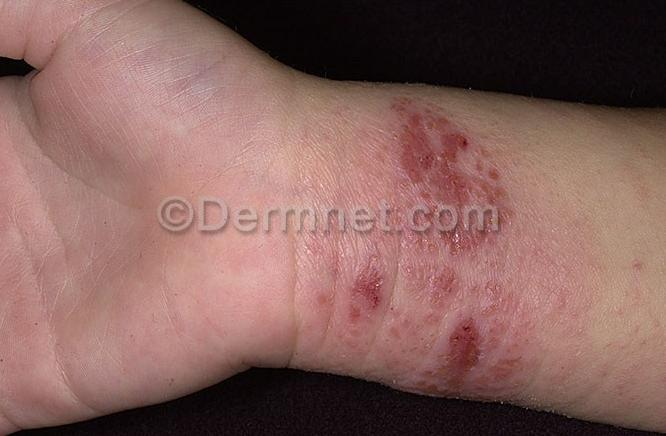eritema 3: (318, 96, 510, 408)
exudacion 3: (343, 114, 513, 398)
xerosis 1: (481, 394, 588, 417)
